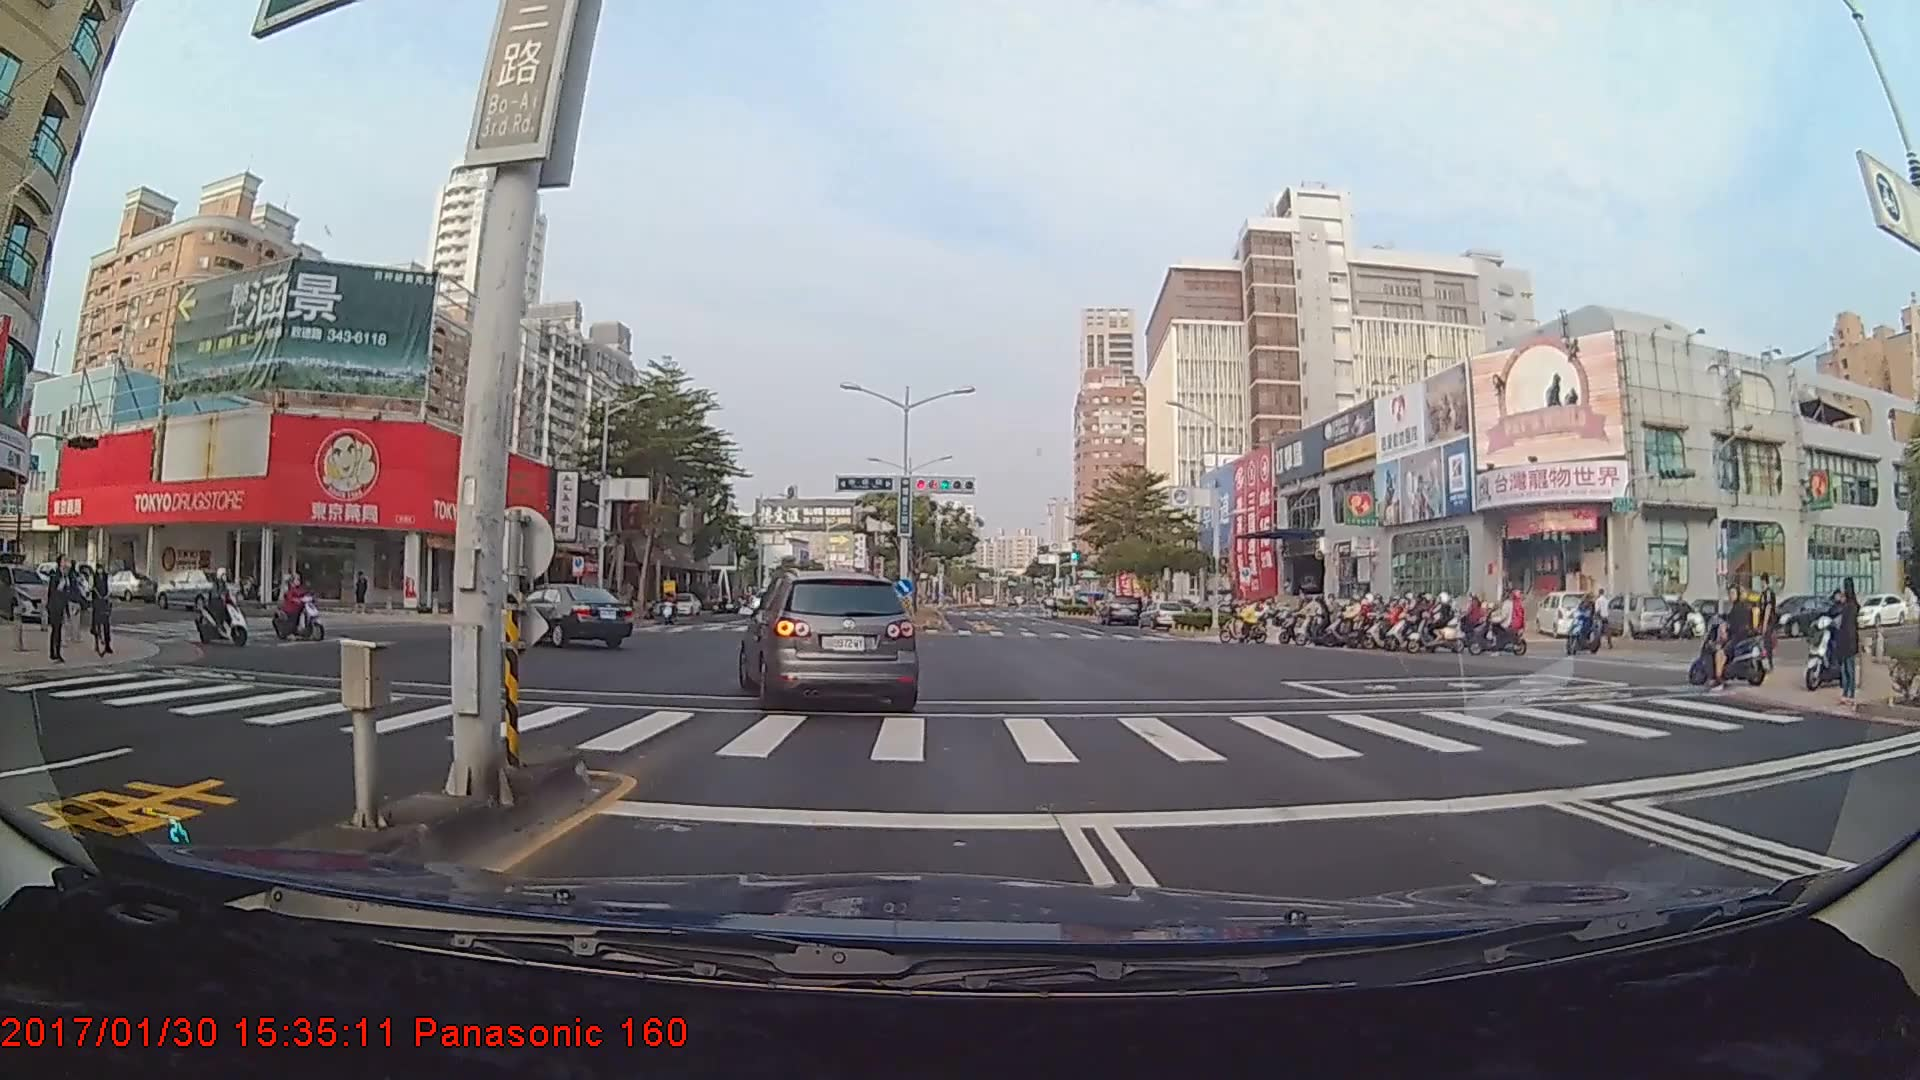pedestrian: (1834, 573, 1870, 708), (43, 552, 73, 665), (1754, 572, 1782, 676)
rider: (1689, 580, 1781, 690), (1805, 584, 1873, 691), (192, 564, 262, 650), (1468, 583, 1535, 661), (268, 575, 331, 642), (81, 557, 115, 662), (1425, 591, 1473, 652), (1275, 593, 1332, 644), (1564, 594, 1611, 653), (1395, 592, 1447, 646), (1219, 598, 1276, 643), (1340, 596, 1387, 648), (1374, 600, 1418, 647), (657, 584, 685, 621)
vehicle: (737, 569, 921, 708), (506, 583, 633, 649), (153, 567, 239, 610), (1099, 595, 1141, 627)
